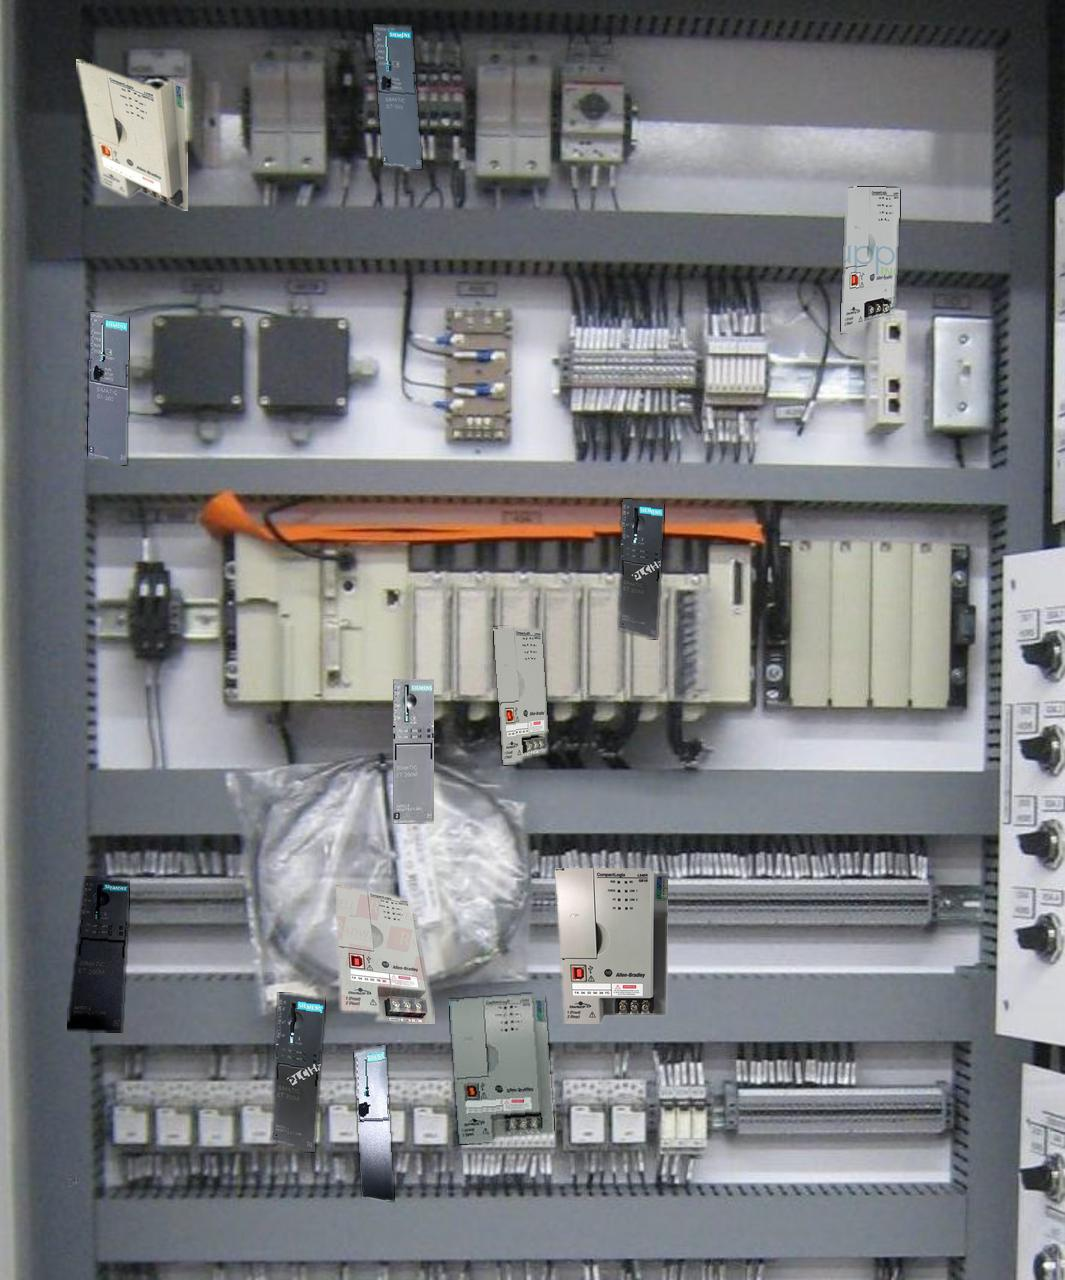AllenBradley: (555, 868, 667, 1023), (77, 58, 187, 210), (449, 994, 553, 1143), (336, 885, 434, 1023), (840, 186, 899, 332), (493, 627, 548, 764)
Siemens: (373, 24, 421, 168), (354, 1045, 393, 1200), (88, 311, 128, 464)
